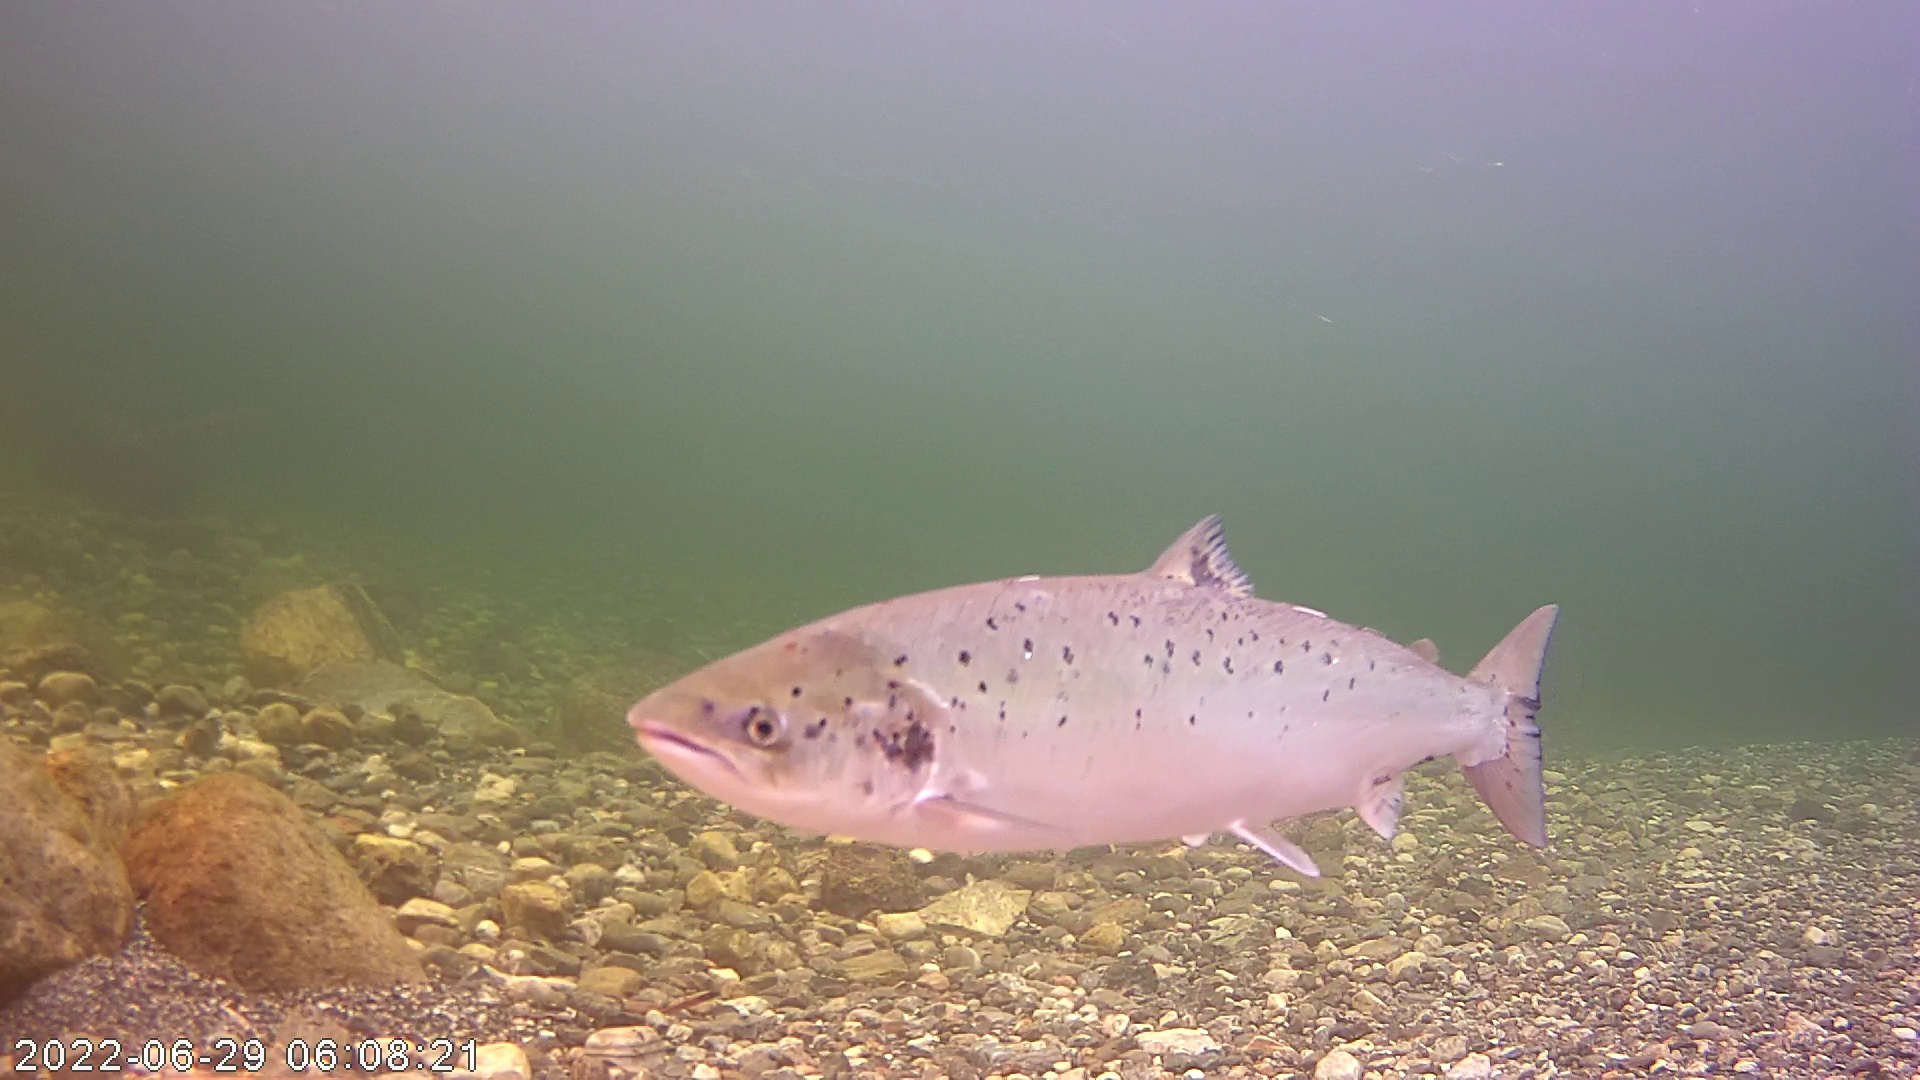salmon: (622, 434, 1572, 873)
